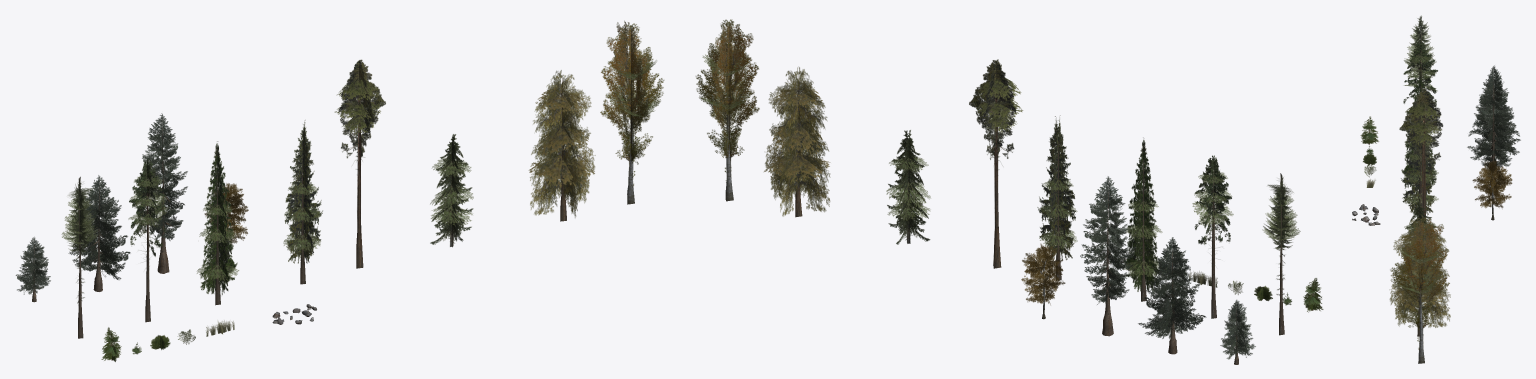
The model's file is low_poly_forest_tree_pack.glb.
3 renders of one model, left to right at view 1: azimuth 30°, elevation 25°; view 2: azimuth 150°, elevation 25°; view 3: azimuth 270°, elevation 25°, orthographic. The views are drawn at different scales.
Parts seen in each view (by area): view 1: Background_Tree_Atlas.004, Background_Tree_Atlas.001, Background_Tree_Atlas, Background_Tree_Atlas.003, Background_Tree_Atlas.005, Tree_Branches_01.002, Tree_Branches_01, Background_Tree_Atlas.002, Background_Tree_Atlas.007, Background_Tree_Atlas.006, Tree_Branches_01.001, Tree_Branches_02; view 2: Background_Tree_Atlas.004, Background_Tree_Atlas.001, Tree_Branches_01, Tree_Branches_01.002, Background_Tree_Atlas.005, Background_Tree_Atlas, Background_Tree_Atlas.003, Background_Tree_Atlas.002, Background_Tree_Atlas.007, Background_Tree_Atlas.006, Tree_Branches_02, Tree_Branches_01.001 (+1 smaller); view 3: Background_Tree_Atlas.001, Background_Tree_Atlas.004, Tree_Branches_01, Background_Tree_Atlas.005, Background_Tree_Atlas.003, Tree_Branches_01.002, Tree_Branches_02, Background_Tree_Atlas.007, Background_Tree_Atlas.006, Background_Tree_Atlas, Background_Tree_Atlas.002, Background_Tree_Atlas.009 (+1 smaller).
Part boxes in pixels (<box>): Background_Tree_Atlas.004: <box>529,70,595,221</box>; Background_Tree_Atlas.001: <box>600,21,664,204</box>; Background_Tree_Atlas: <box>197,141,238,305</box>; Background_Tree_Atlas.003: <box>283,120,322,284</box>; Background_Tree_Atlas.005: <box>334,59,385,268</box>; Tree_Branches_01.002: <box>68,175,130,279</box>; Tree_Branches_01: <box>140,113,187,240</box>; Background_Tree_Atlas.002: <box>430,134,473,247</box>; Background_Tree_Atlas.007: <box>128,159,168,322</box>; Background_Tree_Atlas.006: <box>61,176,98,338</box>; Tree_Branches_01.001: <box>15,237,50,294</box>; Tree_Branches_02: <box>204,183,248,243</box>; Background_Tree_Atlas.004: <box>764,67,830,217</box>; Background_Tree_Atlas.001: <box>695,19,759,201</box>; Tree_Branches_01: <box>1080,176,1135,304</box>; Tree_Branches_01.002: <box>1138,237,1206,339</box>; Background_Tree_Atlas.005: <box>969,59,1022,268</box>; Background_Tree_Atlas: <box>1123,137,1162,301</box>; Background_Tree_Atlas.003: <box>1037,115,1077,280</box>; Background_Tree_Atlas.002: <box>886,130,930,244</box>; Background_Tree_Atlas.007: <box>1192,155,1233,318</box>; Background_Tree_Atlas.006: <box>1262,173,1300,335</box>; Tree_Branches_02: <box>1021,243,1065,304</box>; Tree_Branches_01.001: <box>1220,300,1255,359</box>; Background_Tree_Atlas.001: <box>1390,217,1449,363</box>; Background_Tree_Atlas.004: <box>1389,214,1450,336</box>; Tree_Branches_01: <box>1476,65,1512,167</box>; Background_Tree_Atlas.005: <box>1399,89,1443,221</box>; Background_Tree_Atlas.003: <box>1401,117,1438,215</box>; Tree_Branches_01.002: <box>1467,81,1520,161</box>; Tree_Branches_02: <box>1472,160,1512,208</box>; Background_Tree_Atlas.007: <box>1403,40,1437,113</box>; Background_Tree_Atlas.006: <box>1404,15,1436,80</box>; Background_Tree_Atlas: <box>1401,69,1438,191</box>; Background_Tree_Atlas.002: <box>1401,201,1437,284</box>; Background_Tree_Atlas.009: <box>1360,116,1378,144</box>.
Bounding box in the file's own units: 101 × 33.75 × 30.38.
6 materials, 6 textured.
